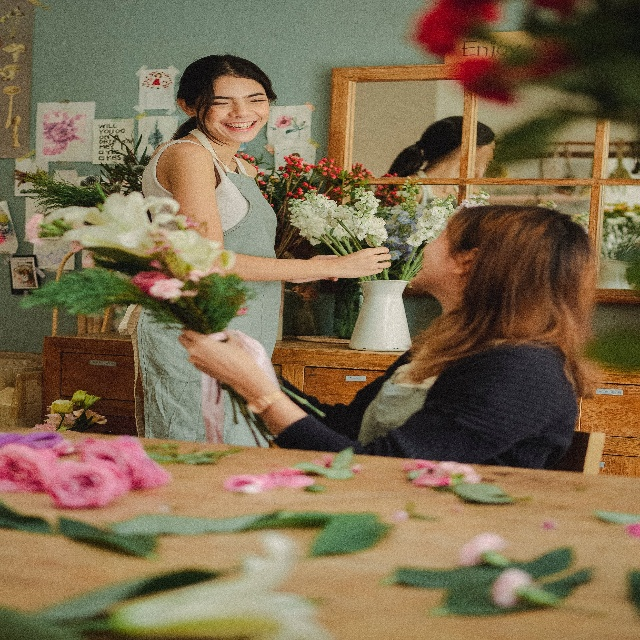Sin_guantes: (181, 324, 263, 396), (329, 244, 391, 272)
